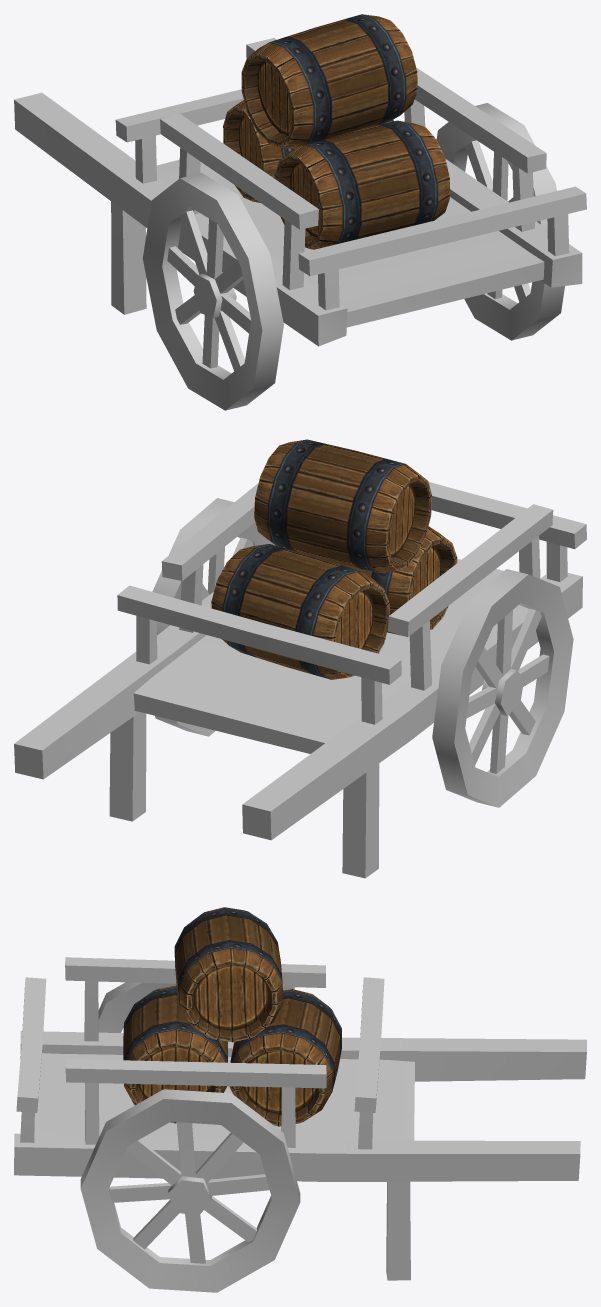
File: SV_AFT_desert_che_0.FBX
The picture shows the model from 3 angles, top to bottom: view 1: azimuth 30°, elevation 25°; view 2: azimuth 150°, elevation 25°; view 3: azimuth 270°, elevation 25°; orthographic projection. The views are drawn at different scales.
Visible parts, largest first — view 1: SV_AFT_desert_che_0_che, SV_AFT_desert_che_0_tong; view 2: SV_AFT_desert_che_0_che, SV_AFT_desert_che_0_tong; view 3: SV_AFT_desert_che_0_che, SV_AFT_desert_che_0_tong.
Boxes of the visible parts, x1,y1,x2,y2 form: SV_AFT_desert_che_0_che: (14,38,586,410); SV_AFT_desert_che_0_tong: (223,14,449,249); SV_AFT_desert_che_0_che: (14,482,586,878); SV_AFT_desert_che_0_tong: (211,439,457,679); SV_AFT_desert_che_0_che: (14,957,586,1292); SV_AFT_desert_che_0_tong: (123,907,341,1126).
Size of the model in its own units: 1.97 by 1.93 by 3.41.
